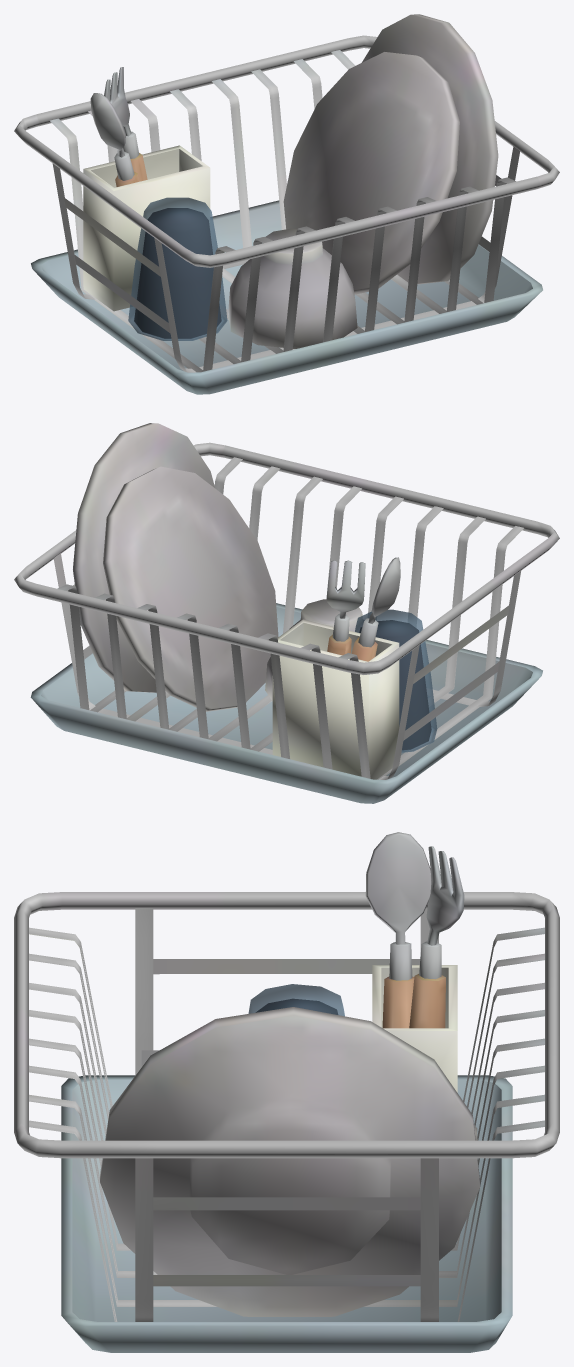
3 renders of one model, top to bottom at view 1: azimuth 30°, elevation 25°; view 2: azimuth 150°, elevation 25°; view 3: azimuth 270°, elevation 25°, orthographic. The views are drawn at different scales.
Bounding box in the file's own units: 8.59 × 5.36 × 7.78.
3 materials, 2 textured.
